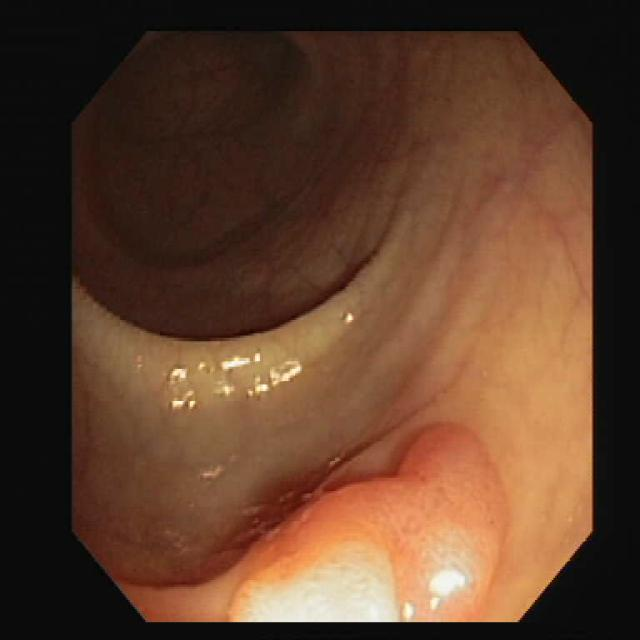tumor: (227, 427, 503, 620)
